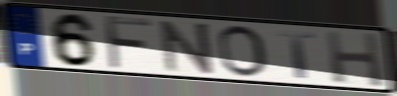6: (50, 11, 102, 69)
F: (101, 13, 156, 71)
H: (323, 29, 387, 90)
N: (158, 18, 217, 75)
O: (216, 23, 271, 79)
T: (276, 29, 318, 81)
